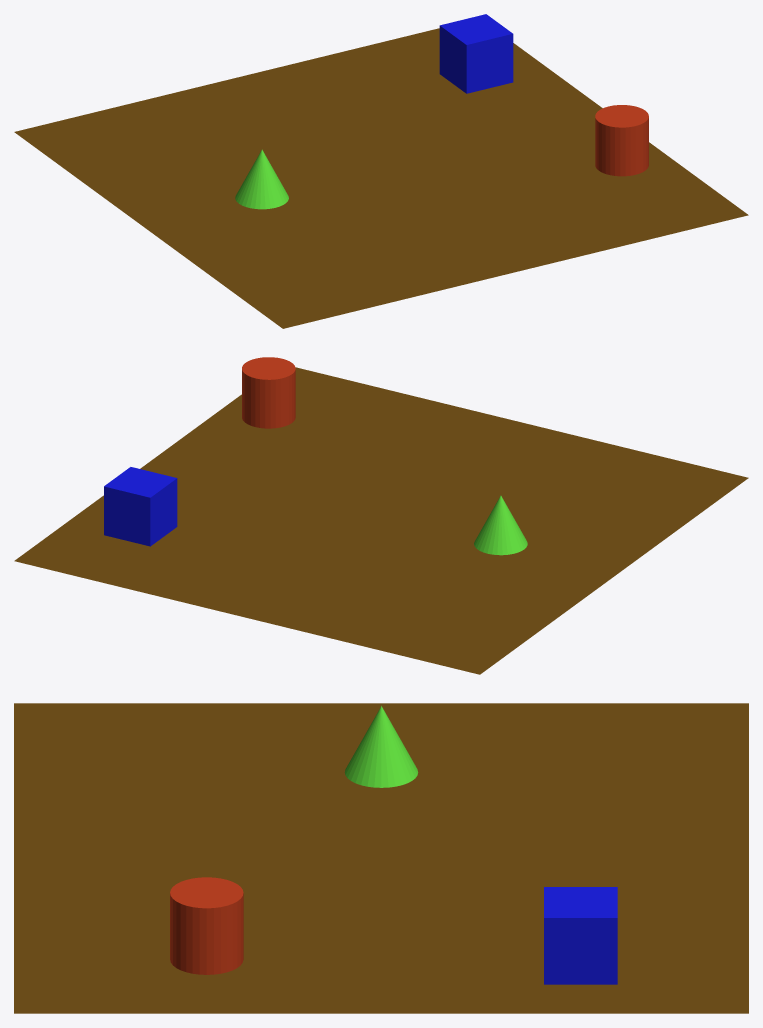
The model's file is location-4.glb.
3 views of the same model, one above another, from view 1: azimuth 30°, elevation 25°; view 2: azimuth 150°, elevation 25°; view 3: azimuth 270°, elevation 25° (orthographic). The views are drawn at different scales.
Visible parts, largest first — view 1: floor, Cube, Cylinder, Cone; view 2: floor, Cube, Cylinder, Cone; view 3: floor, Cube, Cylinder, Cone.
Boxes of the visible parts, x1,y1,x2,y2 form: floor: (14,28,748,328); Cube: (439,14,513,93); Cylinder: (595,105,648,176); Cone: (235,149,288,209); floor: (14,367,748,674); Cube: (104,467,177,546); Cylinder: (242,357,295,428); Cone: (474,495,527,555); floor: (14,703,748,1013); Cube: (544,887,617,984); Cylinder: (170,877,243,974); Cone: (344,706,418,787).
Bounding box in the file's own units: 20 × 2.5 × 20.
